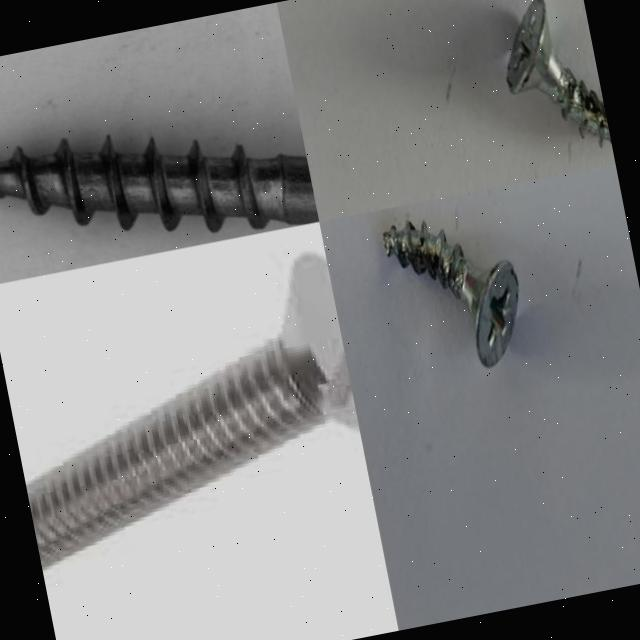Screw: (26, 250, 360, 571), (0, 2, 319, 286), (383, 221, 519, 369), (507, 0, 612, 147)
